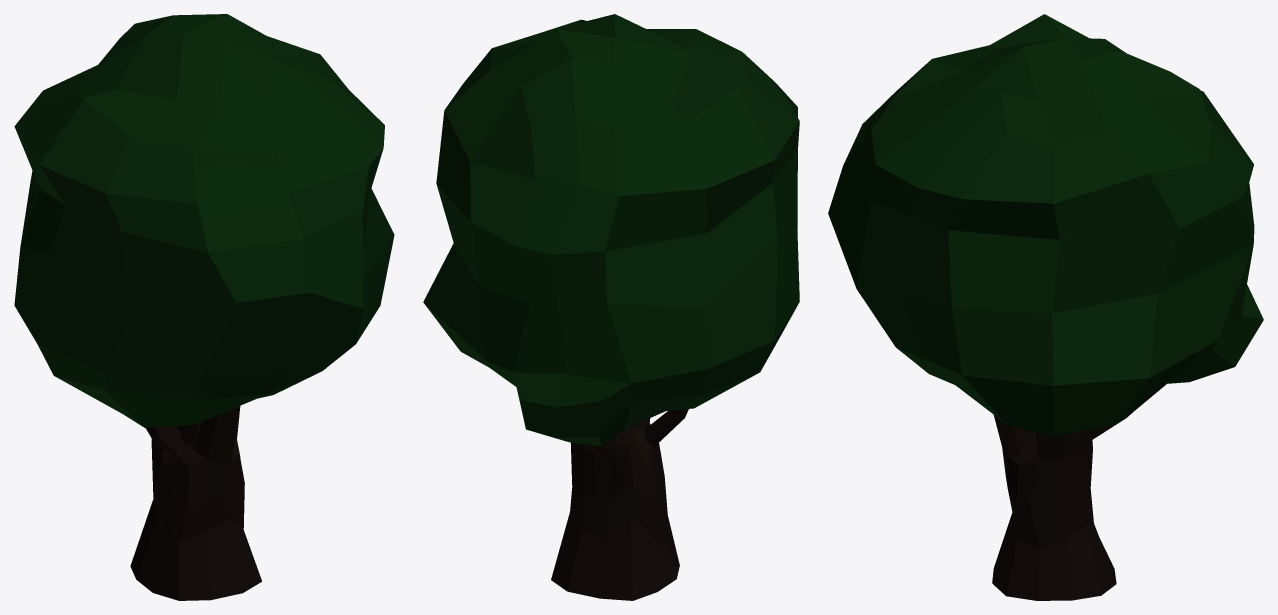
The model's file is Tree.FBX.
The picture shows the model from 3 angles, left to right: view 1: azimuth 30°, elevation 25°; view 2: azimuth 150°, elevation 25°; view 3: azimuth 270°, elevation 25°; orthographic projection.
Visible parts, largest first — view 1: Tree; view 2: Tree; view 3: Tree.
Boxes of the visible parts, x1=… form: Tree: x1=14, y1=14, x2=394, y2=600; Tree: x1=423, y1=14, x2=799, y2=600; Tree: x1=828, y1=14, x2=1263, y2=600.
Size of the model in its own units: 251 by 408 by 300.
